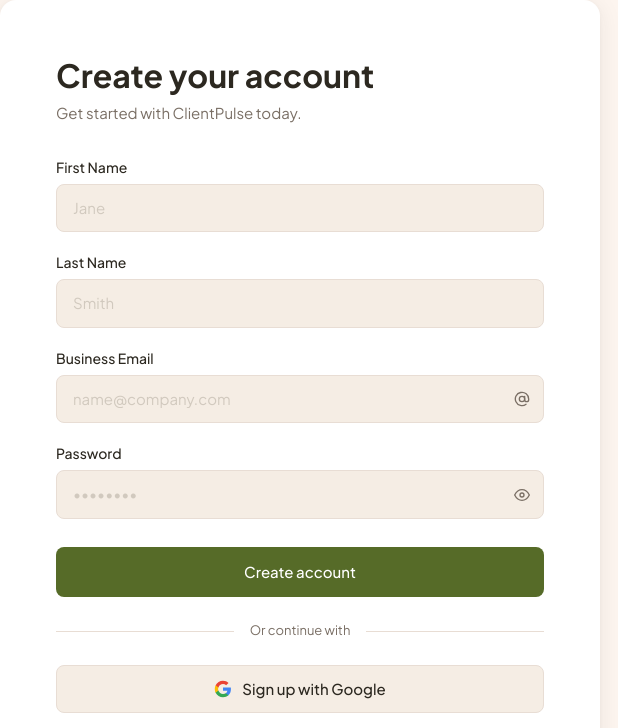
RegistrationForm › should show error message on failed sign up
Click the button "Create account" at [300, 572], box 56,547 -> 544,597
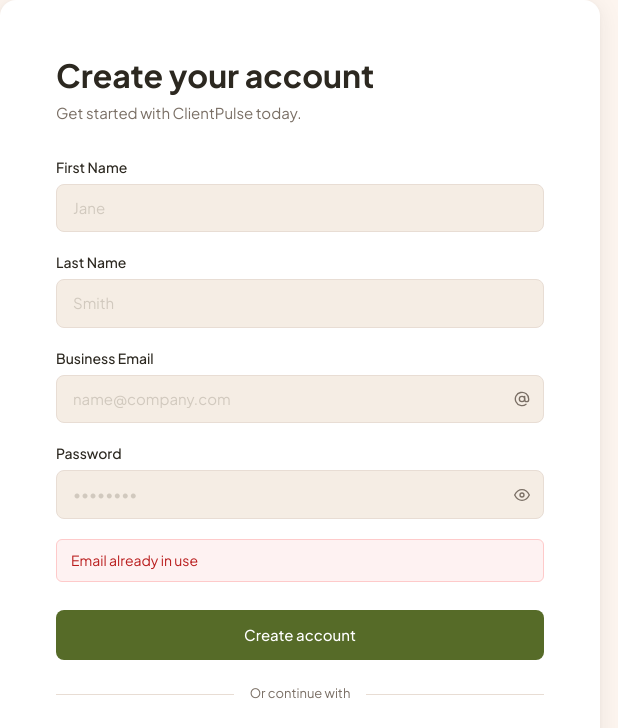
expect the message reads "Email already in use": met, box 71,551 -> 198,569
